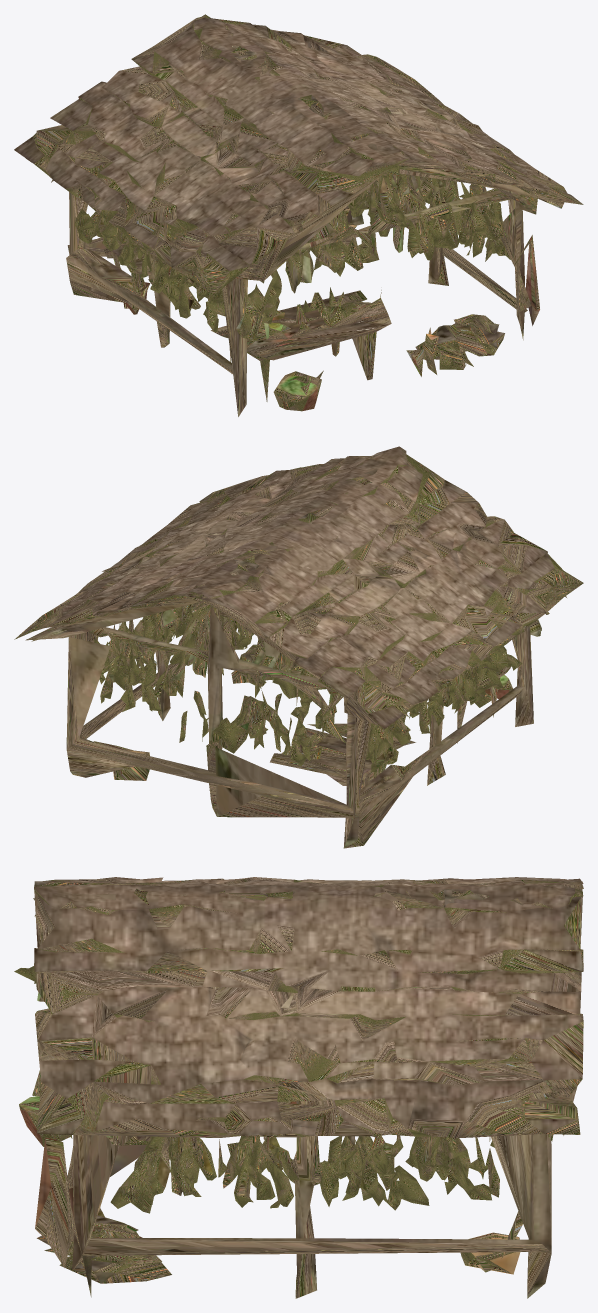
File: bq_incense.mid.glb
3 views of the same model, one above another, from view 1: azimuth 30°, elevation 25°; view 2: azimuth 150°, elevation 25°; view 3: azimuth 270°, elevation 25° (orthographic). The views are drawn at different scales.
Parts seen in each view (by area): view 1: mesh_node; view 2: mesh_node; view 3: mesh_node.
Boxes of the visible parts, box(x1,y1,x2,y2) form: mesh_node: box(14, 14, 583, 416); mesh_node: box(14, 446, 583, 848); mesh_node: box(14, 877, 583, 1298).
Bounding box in the file's own units: 1.9 × 1.11 × 1.83.
Materials: 1 (1 with a texture image).
